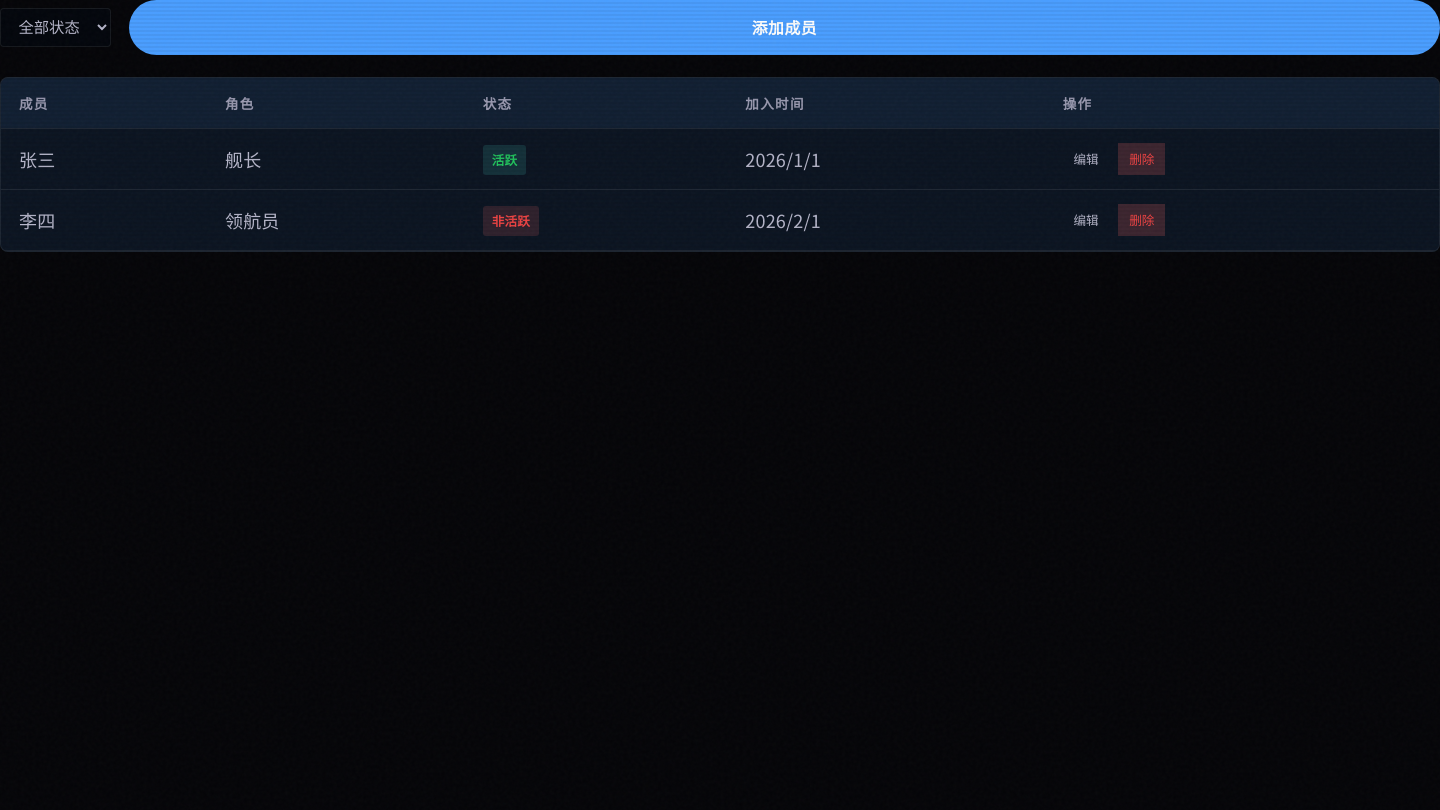
MembersAdmin 视图 › 点击「编辑」应打开弹窗并回填成员字段
Click the button "编辑" in the row of "张三" at (1086, 159), box x1=1063 y1=143 x2=1110 y2=175
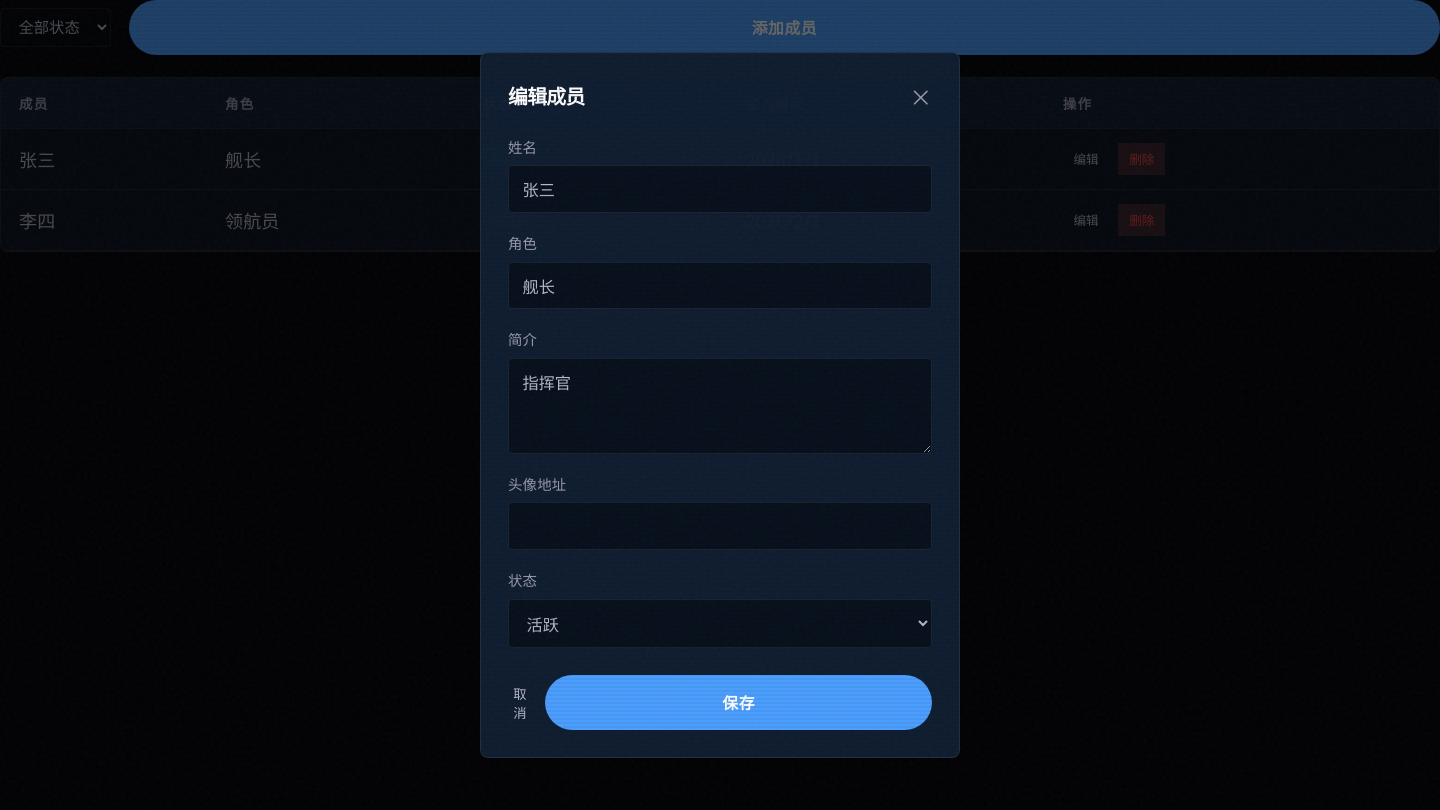
Expected: the element with class "modal-overlay" is shown
Expected: the heading "编辑成员" is shown, x1=508 y1=85 x2=585 y2=107
Expected: the field named "name" below "姓名" holds "张三", x1=508 y1=165 x2=932 y2=213
